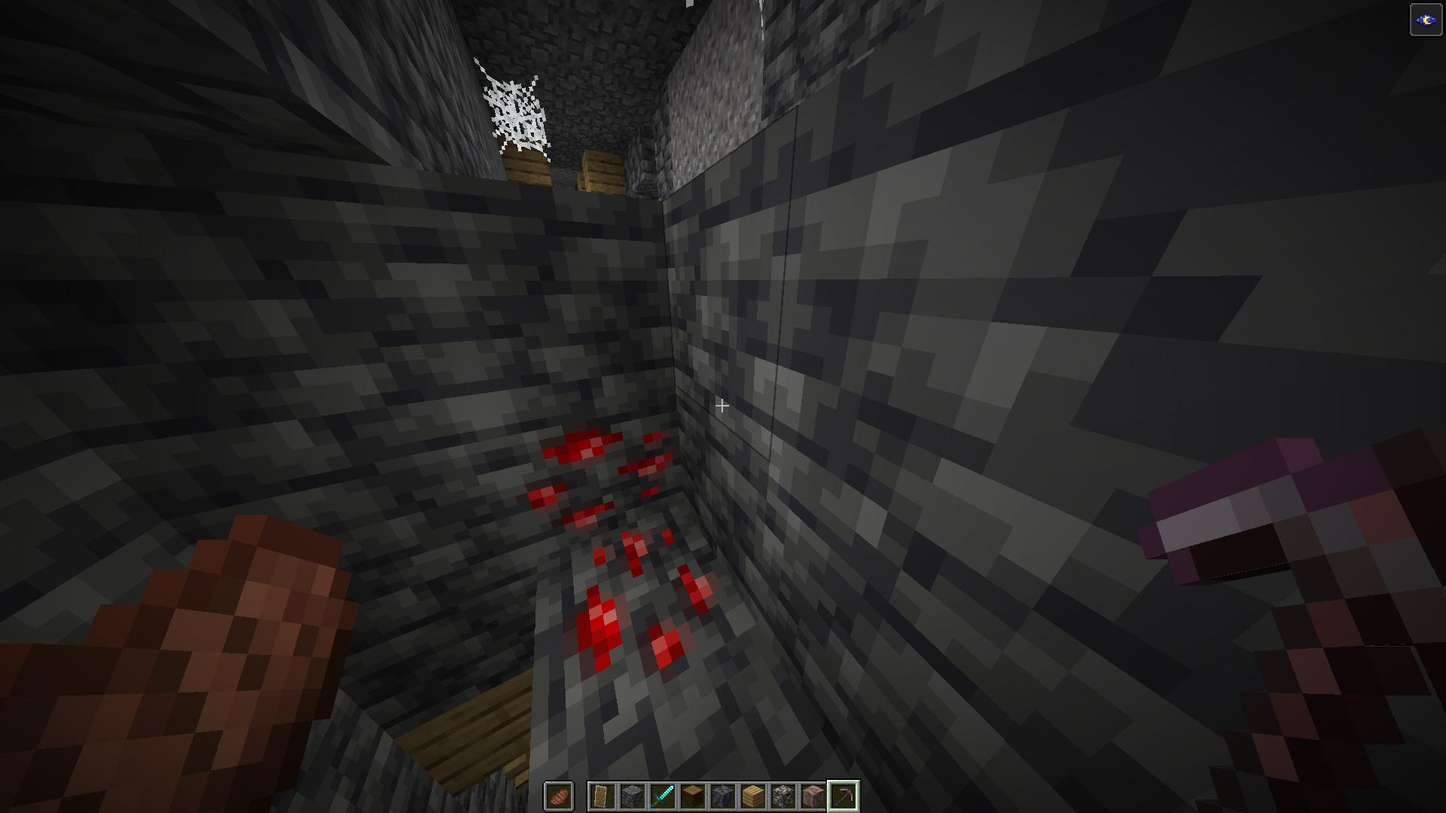redstone ore: (555, 523, 720, 689), (519, 415, 685, 527)
